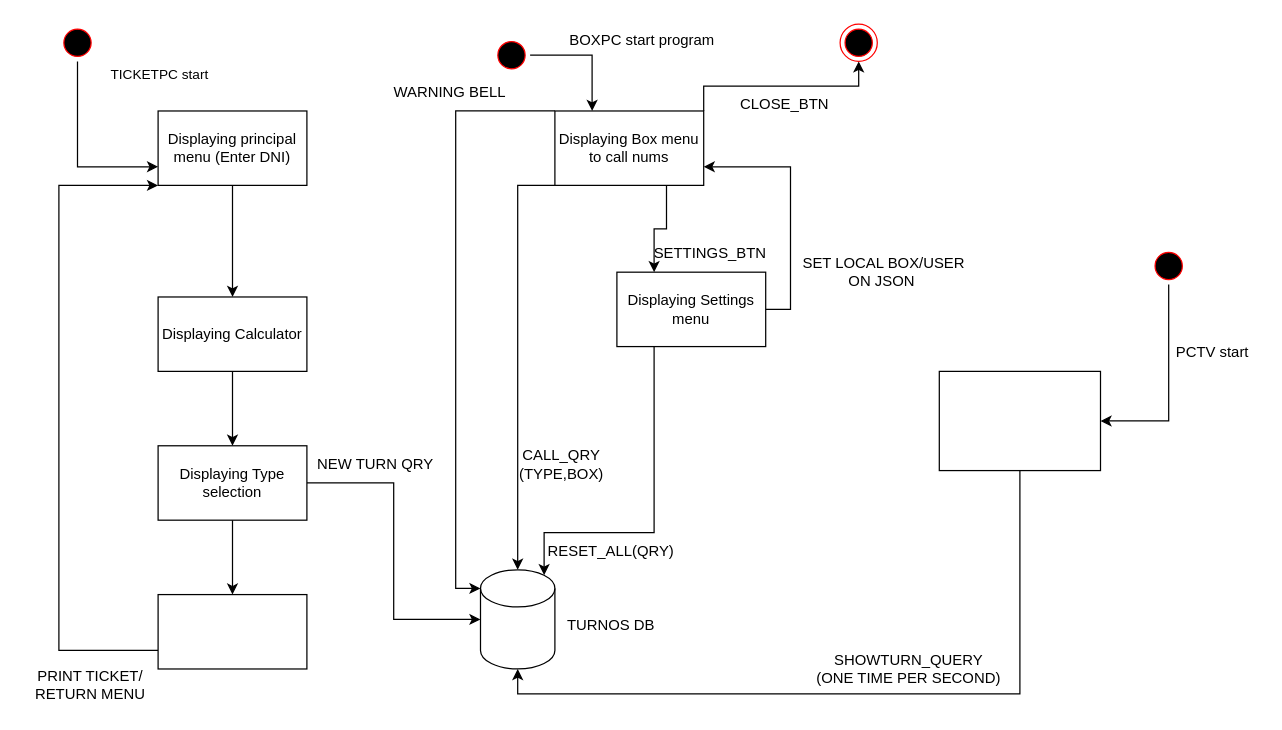
Some shapes in this 1282 by 730 pixel diagram are drawn without their labels. The shapes that lost their labels are listed below. From the top down, each one's box as (x1, y1, x2, y2) in pixels, then its label:
(938, 370, 1100, 471): Displaying Called Numbers
(157, 593, 307, 669): Displaying ticket window
